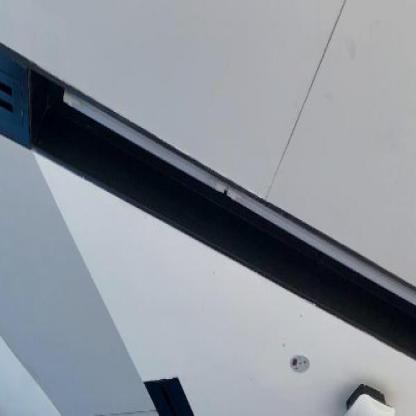light_off: (56, 73, 415, 342)
